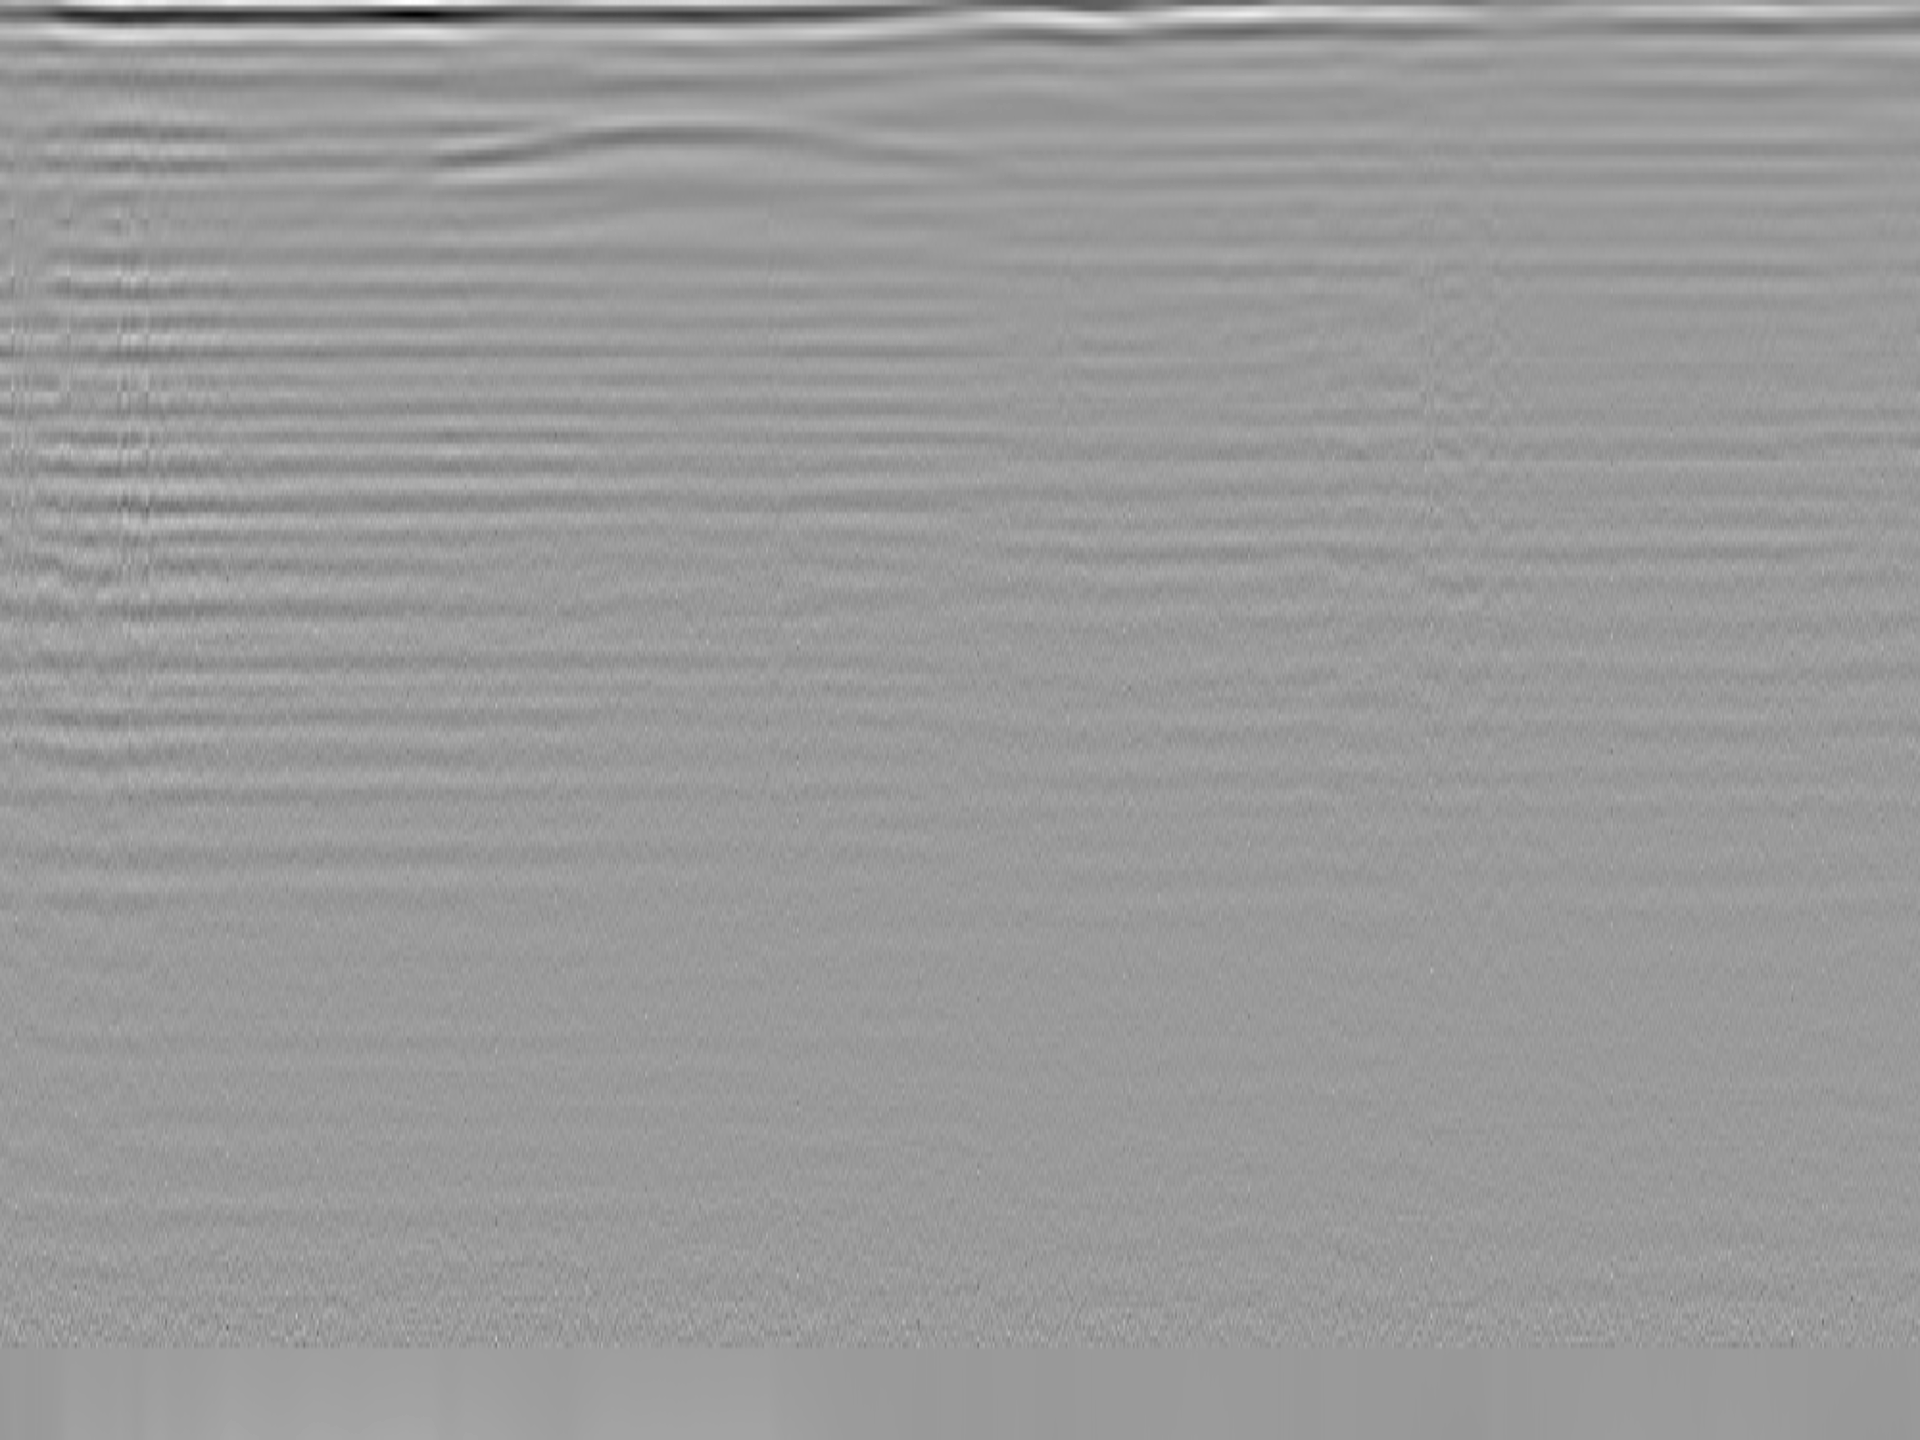Tunnel: (411, 109, 987, 166)
